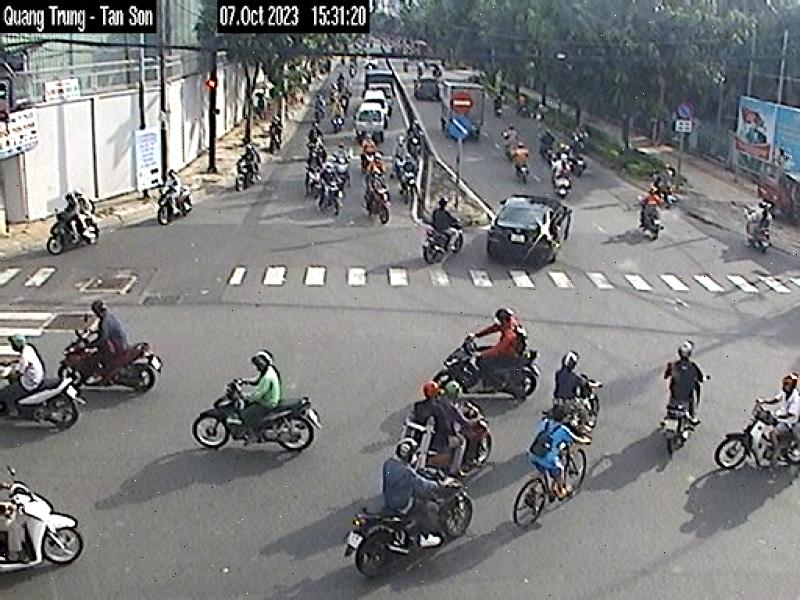car: (486, 190, 572, 268), (347, 102, 387, 144), (355, 86, 391, 113)
motorcycle: (337, 462, 474, 577), (189, 369, 327, 461), (0, 464, 94, 574), (362, 405, 504, 472), (53, 310, 167, 391), (423, 333, 543, 402), (0, 358, 90, 432), (708, 400, 798, 474), (532, 370, 619, 443), (645, 392, 700, 457), (41, 205, 106, 258), (139, 182, 198, 232), (416, 214, 467, 270), (625, 195, 672, 251), (361, 184, 396, 230), (316, 184, 350, 231), (230, 154, 264, 201), (746, 205, 776, 256), (323, 150, 351, 182), (298, 168, 324, 201)
truck: (441, 73, 488, 144)
